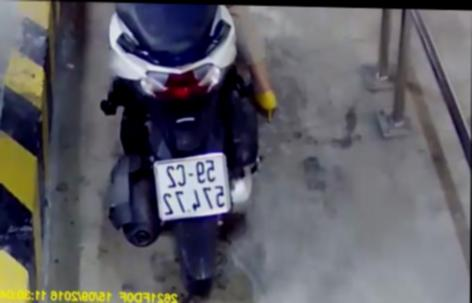License_Plate: (151, 149, 231, 228)
